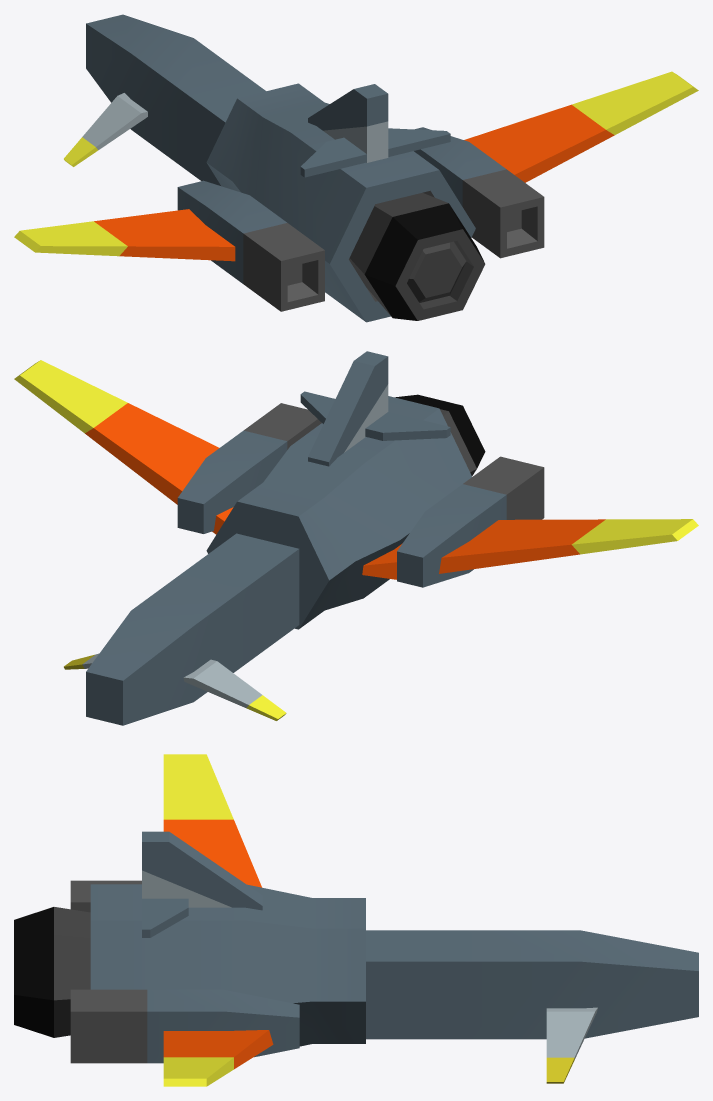
The model's file is DroneFlyingMilitary.fbx.
3 renders of one model, top to bottom at view 1: azimuth 30°, elevation 25°; view 2: azimuth 150°, elevation 25°; view 3: azimuth 270°, elevation 25°, orthographic.
Parts seen in each view (by area): view 1: engine_rocket%_5, engine_plane_0, engine_airplane%_2, engine_plane_9, wing_diagonalFin_4, engine_plane_10, wing_diagonalFin_3, plane_rudderLarge_1, wing_diagonalFin_6; view 2: engine_rocket%_5, engine_plane_0, wing_diagonalFin_4, engine_plane_9, wing_diagonalFin_3, engine_plane_10, plane_rudderLarge_1, wing_diagonalFin_6, engine_airplane%_2; view 3: engine_plane_0, engine_rocket%_5, engine_plane_10, engine_airplane%_2, plane_rudderLarge_1, wing_diagonalFin_3, wing_diagonalFin_4, wing_diagonalFin_8, engine_plane_9.
Part boxes in pixels (box(x1,y1,x2,y2)): engine_rocket%_5: box(206, 83, 475, 322); engine_plane_0: box(86, 14, 265, 185); engine_airplane%_2: box(349, 192, 485, 320); engine_plane_9: box(177, 180, 324, 311); wing_diagonalFin_4: box(464, 71, 698, 182); engine_plane_10: box(414, 127, 544, 258); wing_diagonalFin_3: box(14, 209, 235, 261); plane_rudderLarge_1: box(300, 84, 450, 177); wing_diagonalFin_6: box(64, 93, 147, 166); engine_rocket%_5: box(206, 396, 471, 629); engine_plane_0: box(86, 533, 299, 725); wing_diagonalFin_4: box(14, 360, 233, 534); engine_plane_9: box(397, 456, 544, 587); wing_diagonalFin_3: box(362, 519, 698, 579); engine_plane_10: box(177, 403, 321, 533); plane_rudderLarge_1: box(300, 351, 450, 466); wing_diagonalFin_6: box(183, 659, 286, 720); engine_airplane%_2: box(395, 394, 485, 475); engine_plane_0: box(366, 930, 698, 1039); engine_rocket%_5: box(90, 884, 365, 1046); engine_plane_10: box(70, 989, 299, 1063); engine_airplane%_2: box(14, 907, 90, 1037); plane_rudderLarge_1: box(142, 831, 262, 937); wing_diagonalFin_3: box(163, 754, 261, 887); wing_diagonalFin_4: box(163, 1030, 273, 1086); wing_diagonalFin_8: box(546, 1007, 597, 1083); engine_plane_9: box(70, 880, 141, 912).
Bounding box in the file's own units: 45.42 × 13 × 39.81.
